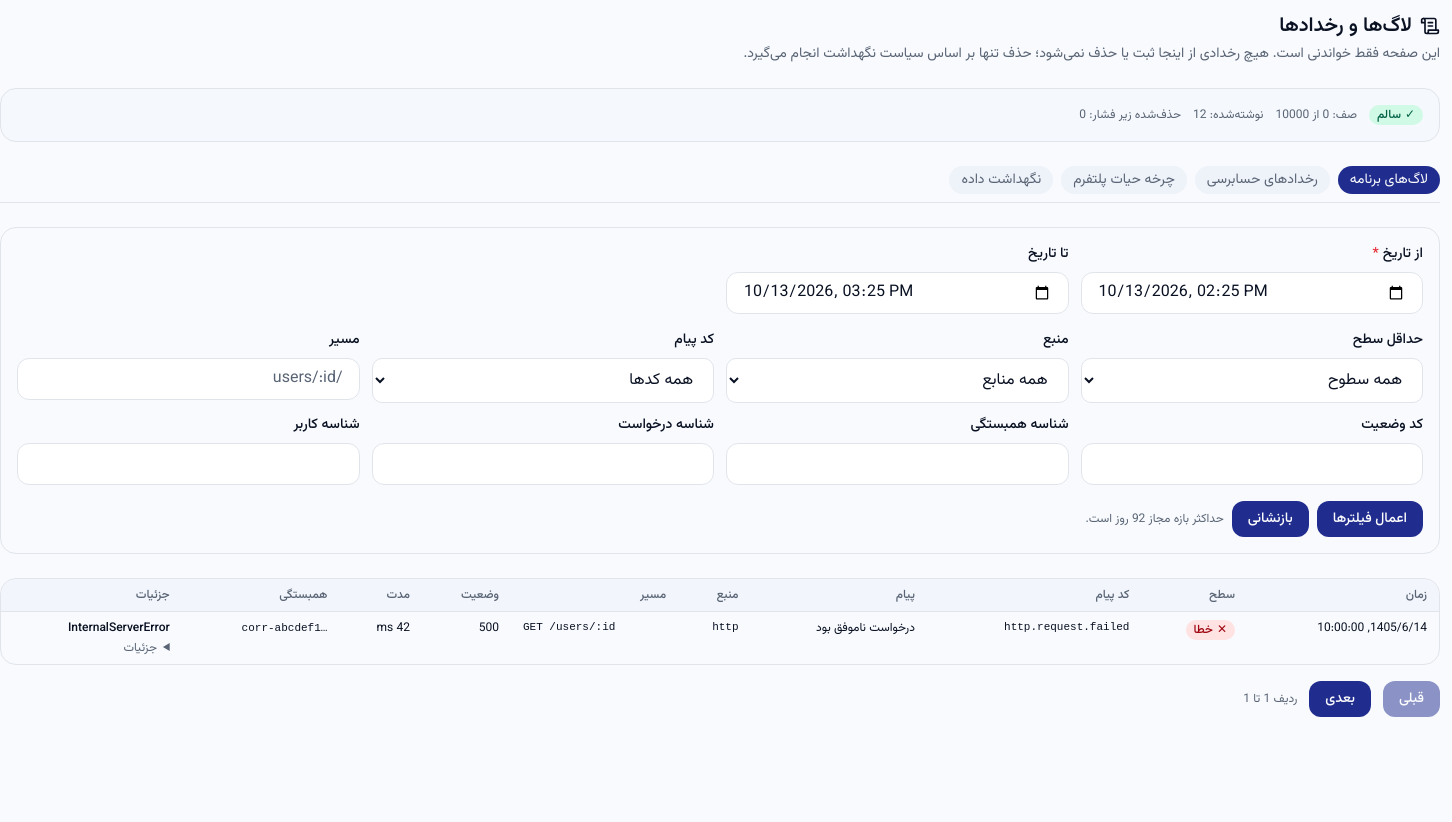
CoreObservabilityView — paging without a total › advances `offset` by the page size and re-queries
Click the button "بعدی": (1340, 699) x1=1309 y1=681 x2=1371 y2=717
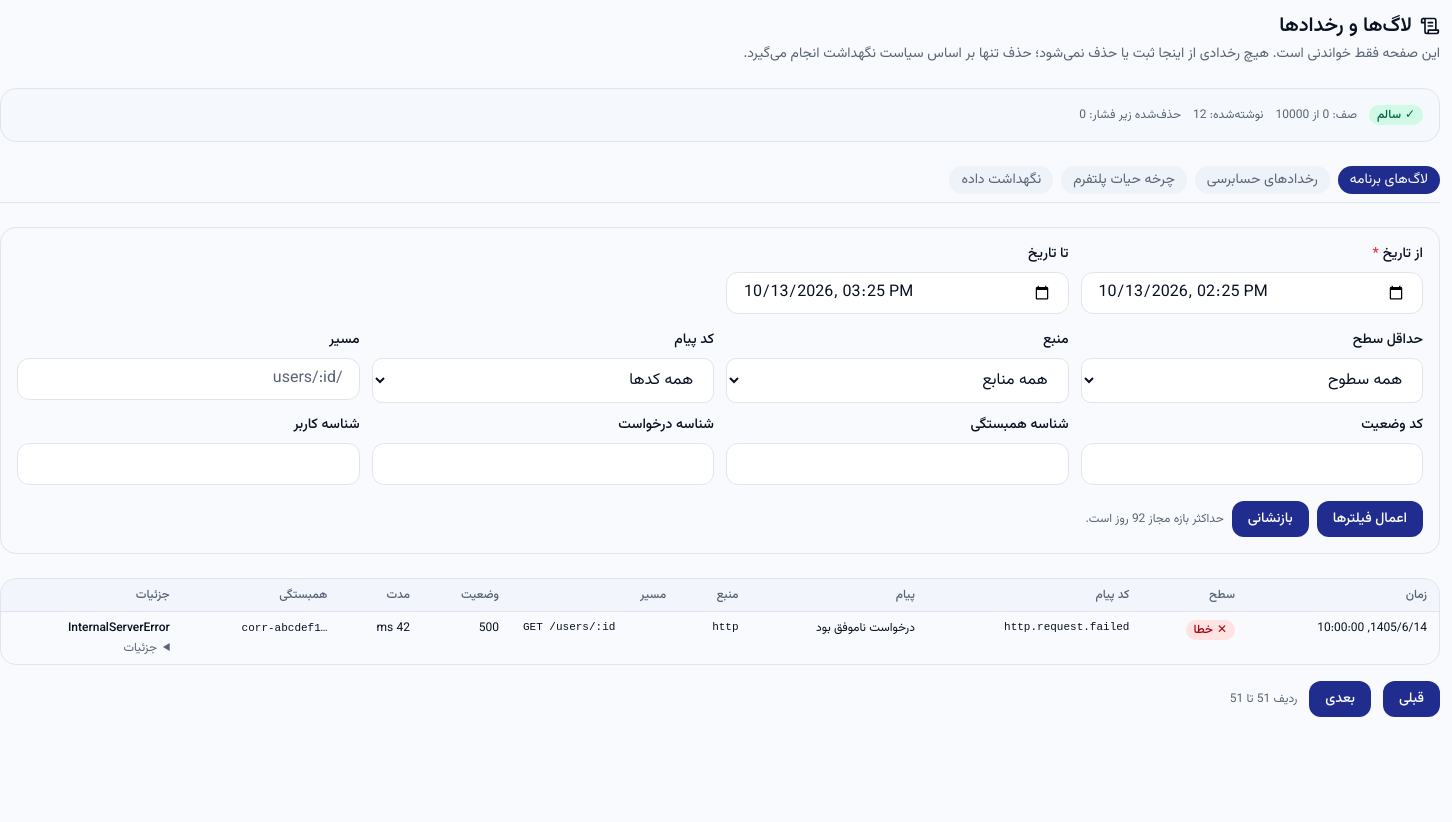
Expected: the button "قبلی" is enabled, x1=1383 y1=681 x2=1440 y2=717
